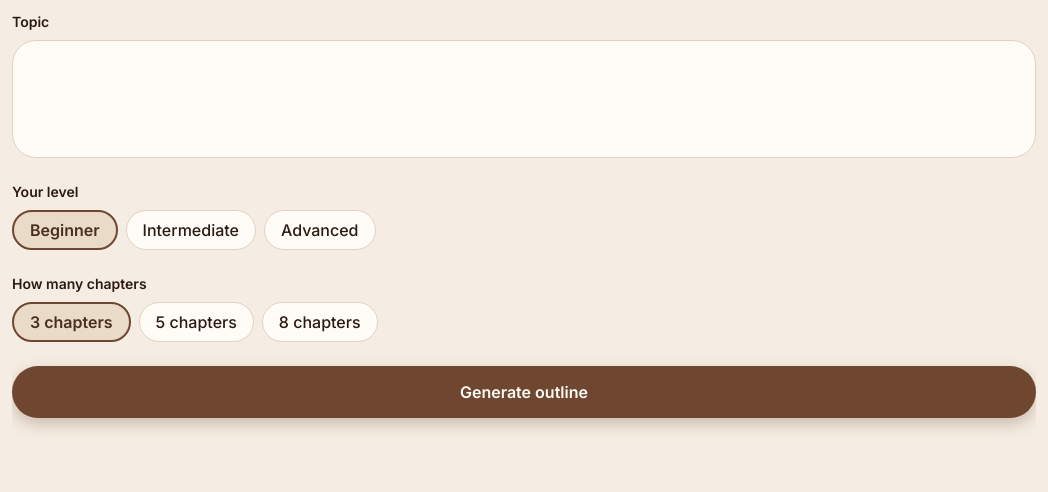
NewModuleForm › shows a server error message and returns to the form
This screenshot has width=1048, height=492.
Type "Stoicism" into the text box labelled "Topic". click: (524, 99)
box: [12, 40, 1036, 158]
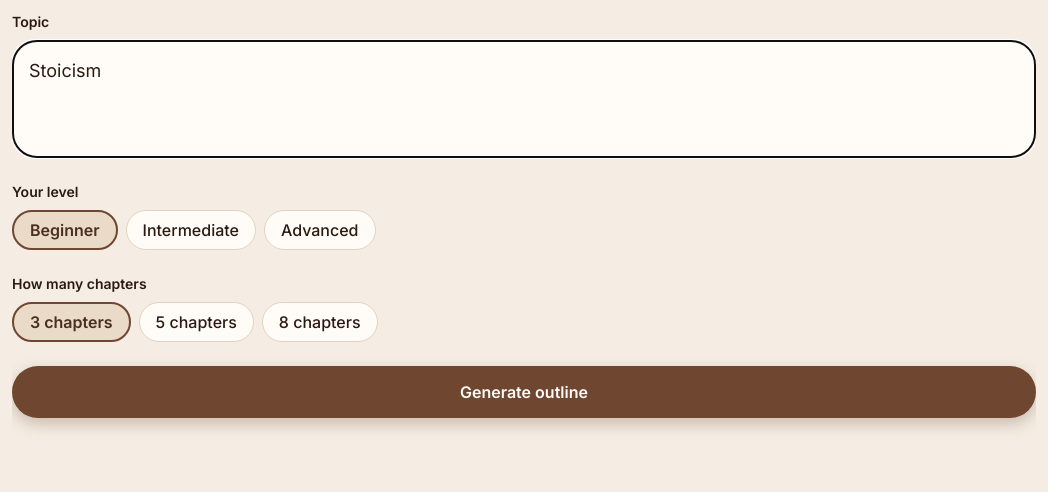
Click the button "Generate outline". click: (524, 392)
box: [12, 366, 1036, 418]
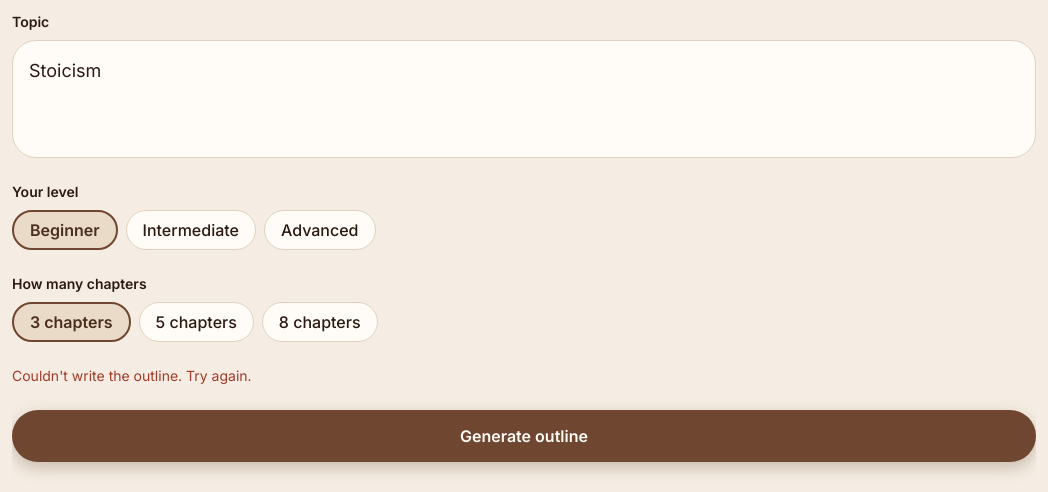
Expected: the message shows "Couldn't write the outline", [12, 367, 252, 384]
